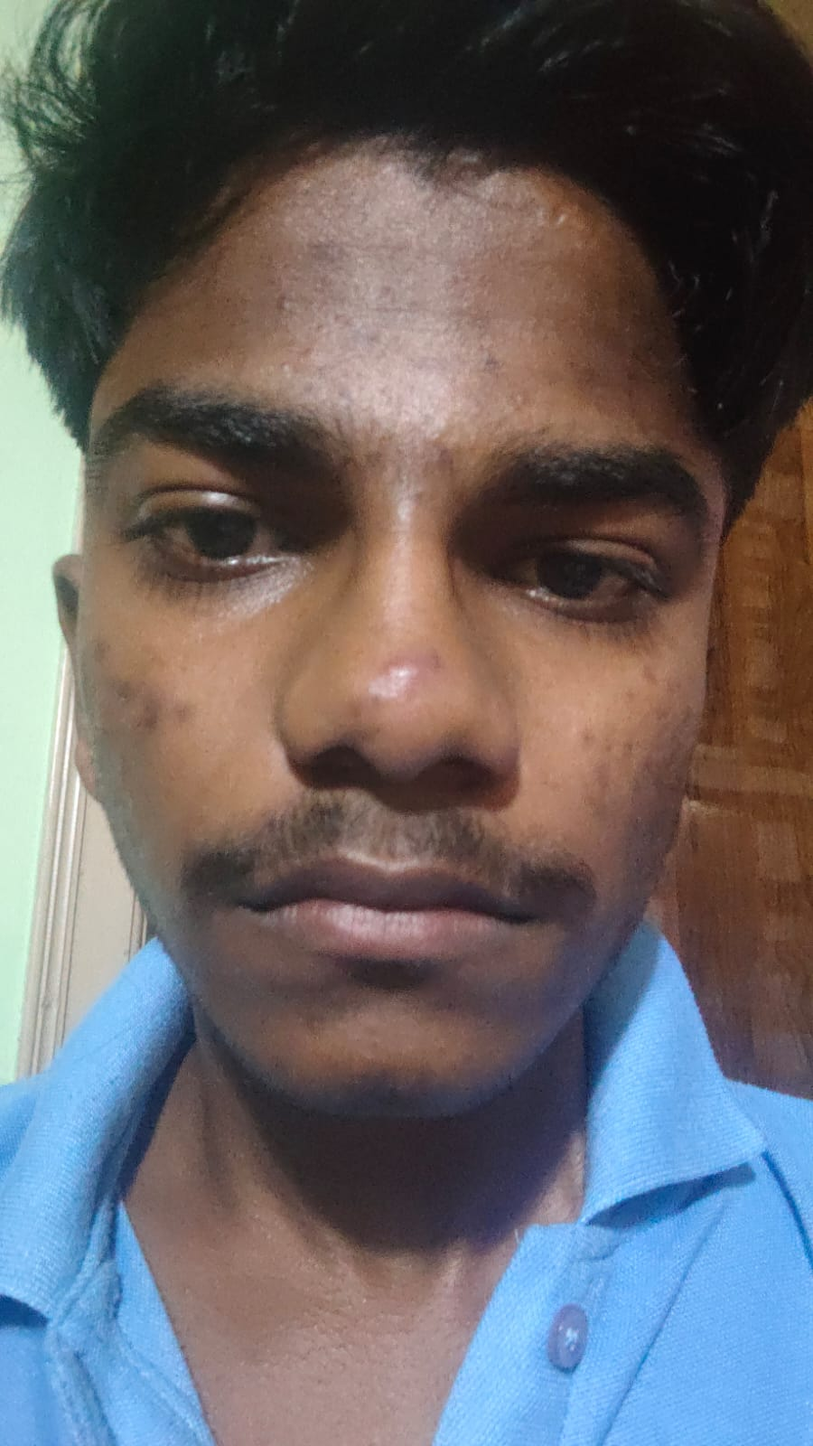closed_comedone: (277, 358, 304, 383)
nodule: (379, 658, 437, 691)
